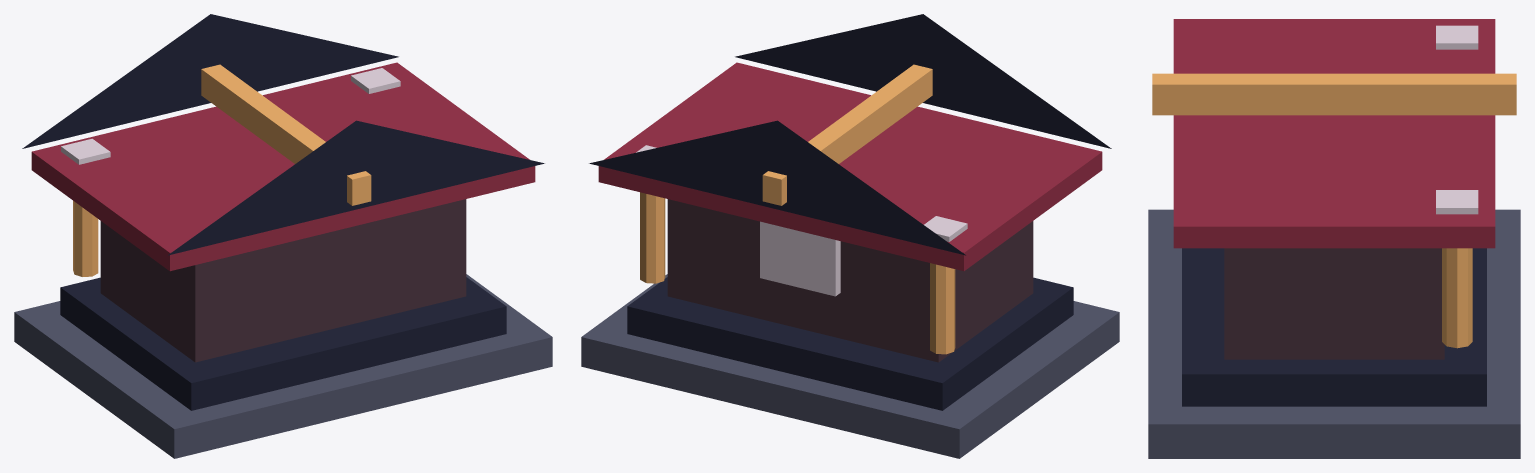
Rendered from dojo_kitsune_shrine_altar.obj.
3 renders of one model, left to right at view 1: azimuth 30°, elevation 25°; view 2: azimuth 150°, elevation 25°; view 3: azimuth 270°, elevation 25°, orthographic. The views are drawn at different scales.
Parts seen in each view (by area): view 1: dojo_kitsune_shrine_altar; view 2: dojo_kitsune_shrine_altar; view 3: dojo_kitsune_shrine_altar.
Part boxes in pixels (<box>): dojo_kitsune_shrine_altar: <box>14,14,552,458</box>; dojo_kitsune_shrine_altar: <box>581,14,1119,458</box>; dojo_kitsune_shrine_altar: <box>1148,19,1520,458</box>.
Size of the model in its own units: 6 by 4.35 by 4.4.
